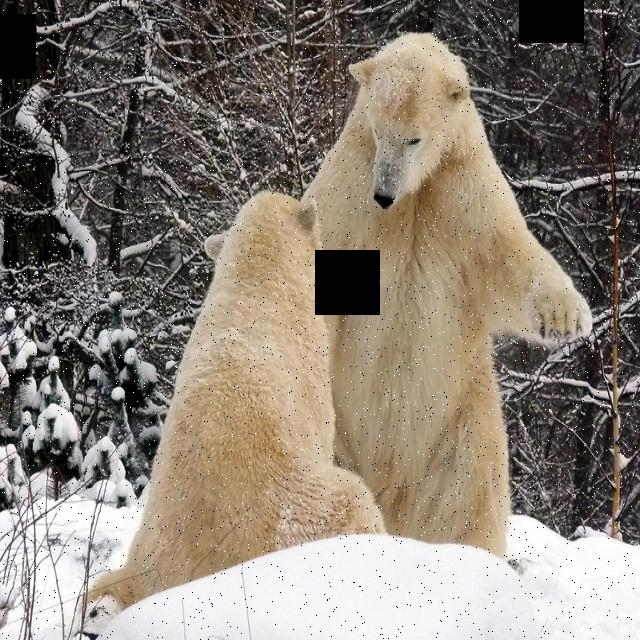Bear: (289, 22, 595, 584), (101, 181, 383, 589)
